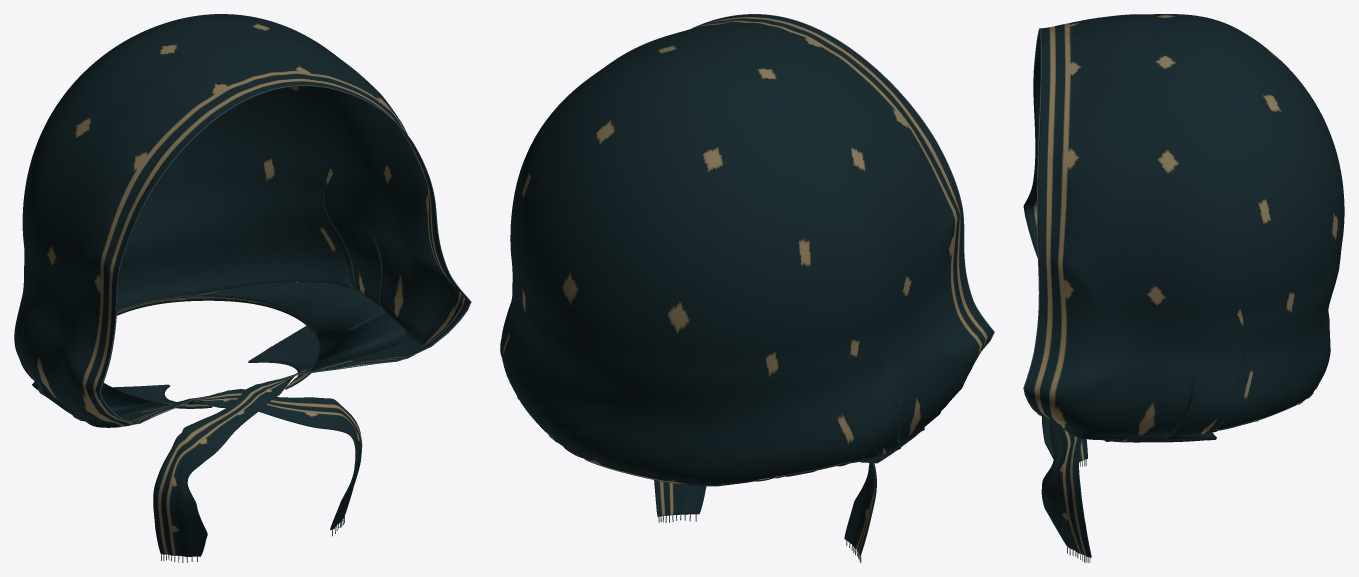
Rendered from Feminine-Feminine-curls-tshirt-pashmina250-headgear-f651840d.glb.
The picture shows the model from 3 angles, left to right: view 1: azimuth 30°, elevation 25°; view 2: azimuth 150°, elevation 25°; view 3: azimuth 270°, elevation 25°; orthographic projection. The views are drawn at different scales.
Visible parts, largest first — view 1: 226 headgear / Headwear / continuous woven pashmina239, 226 headgear / Headwear / face edge239; view 2: 226 headgear / Headwear / continuous woven pashmina239, 226 headgear / Headwear / face edge239; view 3: 226 headgear / Headwear / continuous woven pashmina239, 226 headgear / Headwear / face edge239.
Boxes of the visible parts, bbox=[...] form: 226 headgear / Headwear / continuous woven pashmina239: bbox=[14, 14, 470, 556]; 226 headgear / Headwear / face edge239: bbox=[99, 85, 471, 423]; 226 headgear / Headwear / continuous woven pashmina239: bbox=[500, 14, 993, 555]; 226 headgear / Headwear / face edge239: bbox=[691, 14, 994, 350]; 226 headgear / Headwear / continuous woven pashmina239: bbox=[1024, 14, 1344, 557]; 226 headgear / Headwear / face edge239: bbox=[1023, 28, 1044, 416].
Size of the model in its own units: 1.02 by 1.24 by 0.7402.
Materials: 3 (1 with a texture image).
